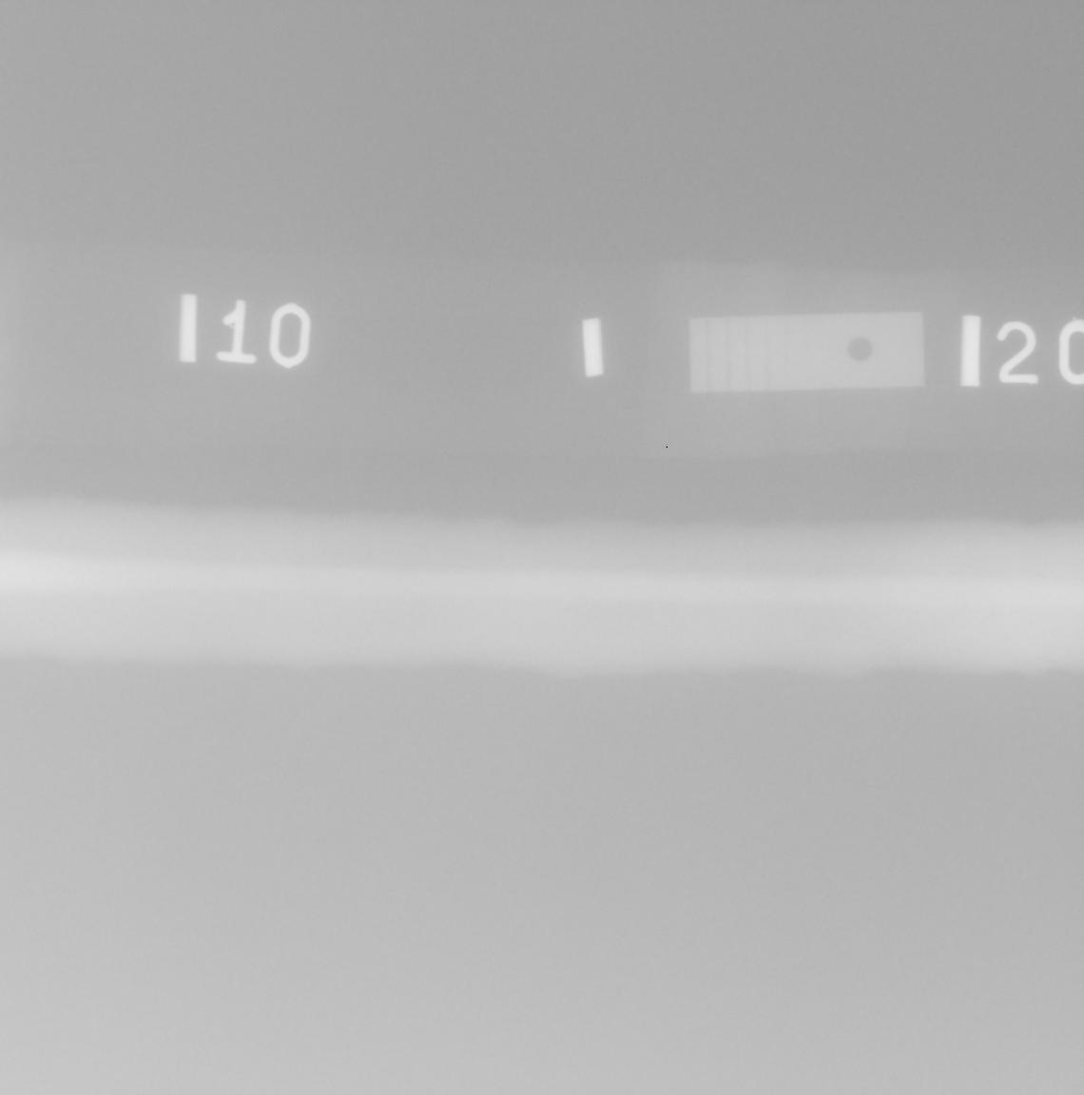Reference Standard 1: (690, 310, 924, 393)
